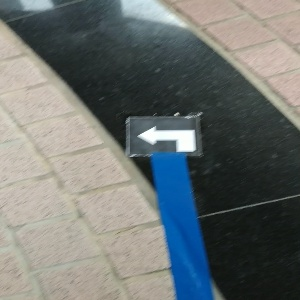left: (127, 114, 201, 156)
